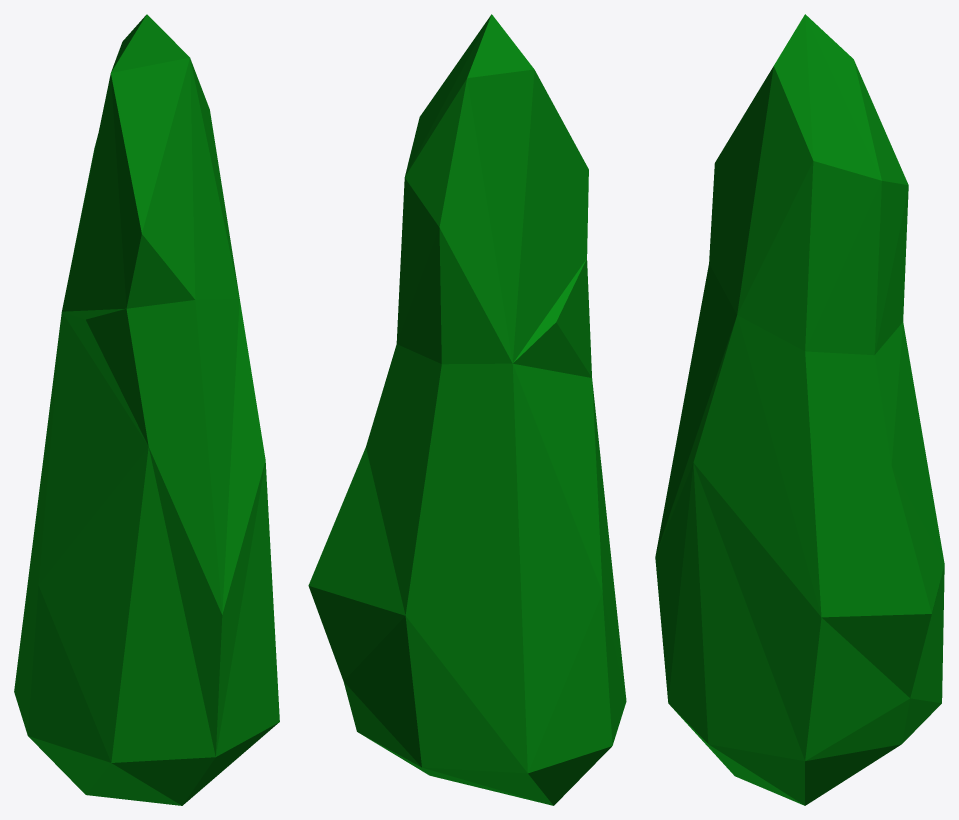
The model's file is SM_TallBush.fbx.
3 views of the same model, side by side, from view 1: azimuth 30°, elevation 25°; view 2: azimuth 150°, elevation 25°; view 3: azimuth 270°, elevation 25° (orthographic).
Visible parts, largest first — view 1: pCylinder3; view 2: pCylinder3; view 3: pCylinder3.
Part boxes in pixels (x1,y1,x2,y2): pCylinder3: [14, 14, 279, 805]; pCylinder3: [308, 14, 626, 805]; pCylinder3: [655, 14, 944, 805].
Bounding box in the file's own units: 167 × 502 × 173.
